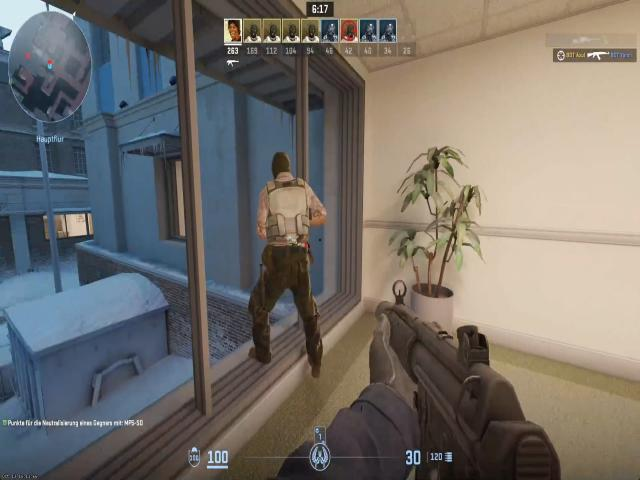T: (262, 161, 317, 246)
T-Head: (270, 148, 296, 182)
